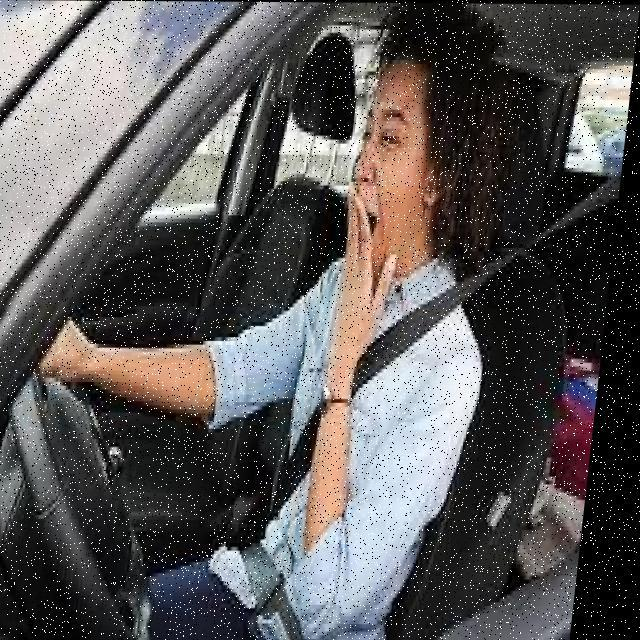seatbelt: (223, 224, 514, 640)
